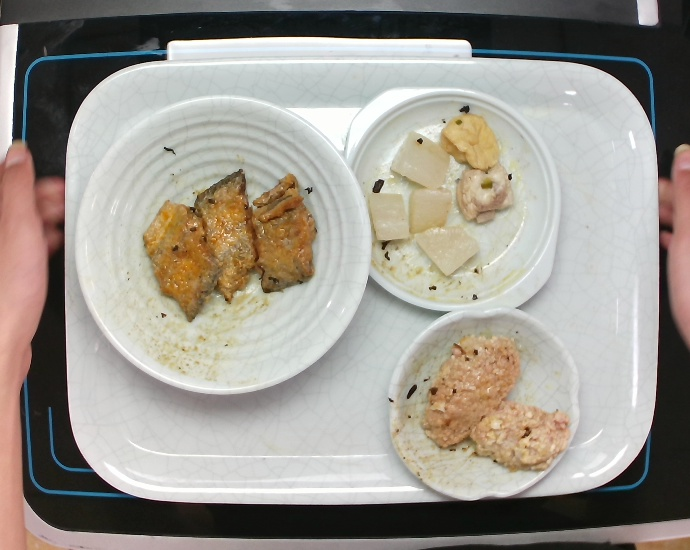JYsf-Ao_Yuan_Wan: (383, 306, 591, 500)
JYsf-Shuang_Er_Pan: (340, 81, 567, 318)
JYsf-Xiao_Tang_Wan: (71, 90, 379, 405)
